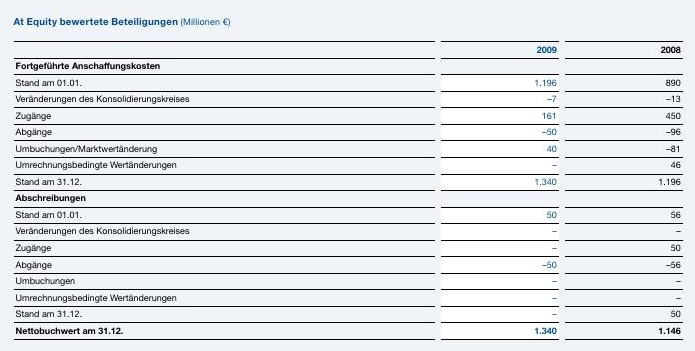table: (0, 0, 695, 351)
